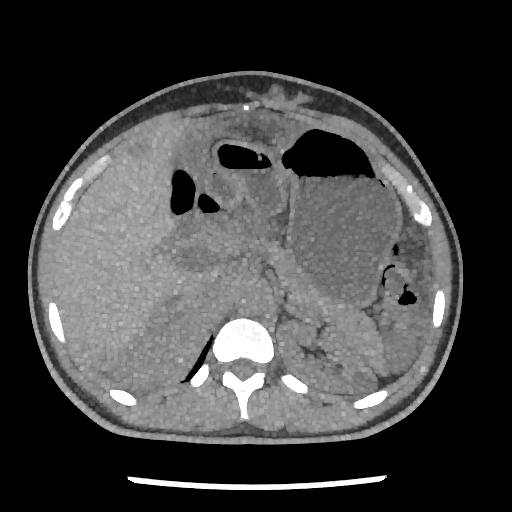Lesion: (348, 363, 381, 397)
